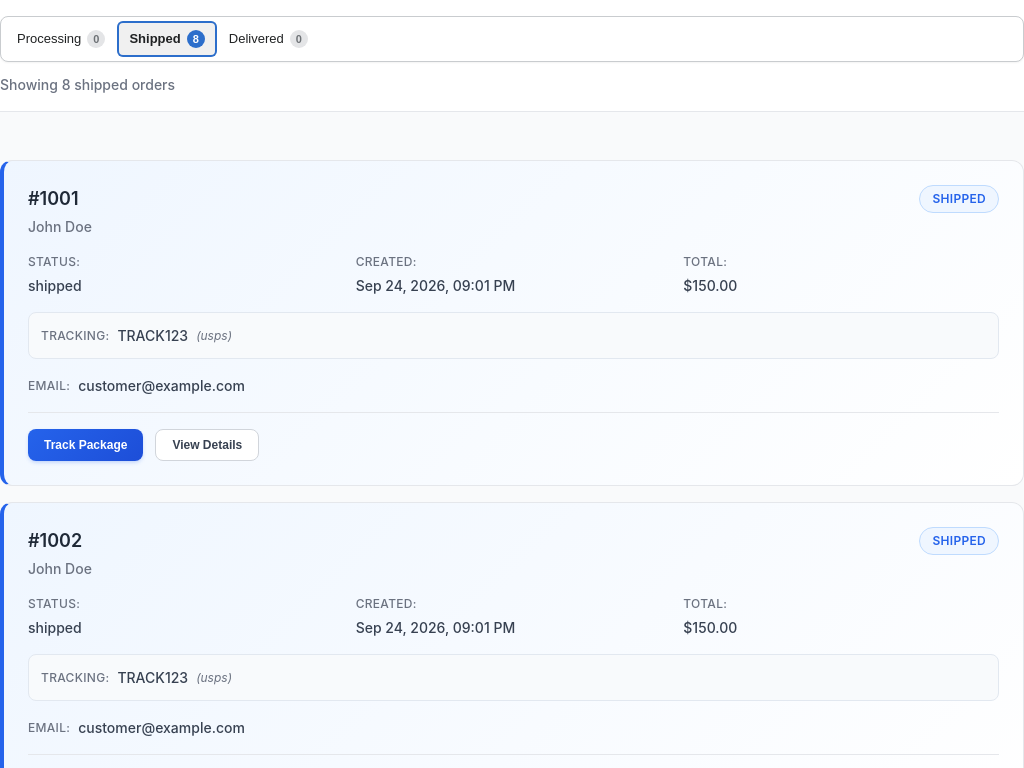
Test: OrdersTab Component › v1.32: Lucide Icon Integration - Empty State Icons › Processing Tab Empty State Icon › should render SVG icon for no processing orders
Note: Switch to Processing tab
Click the button "Processing 0" at (61, 39), box [5,21,117,57]
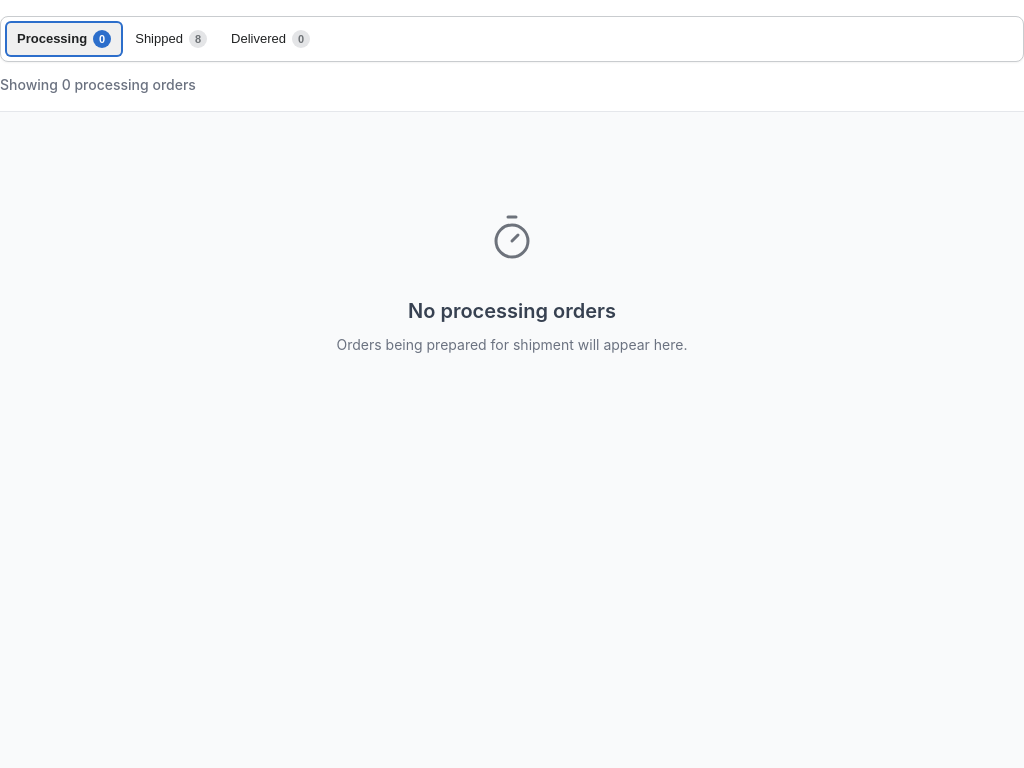
Now the icon is shown, box [488,213,536,261]
